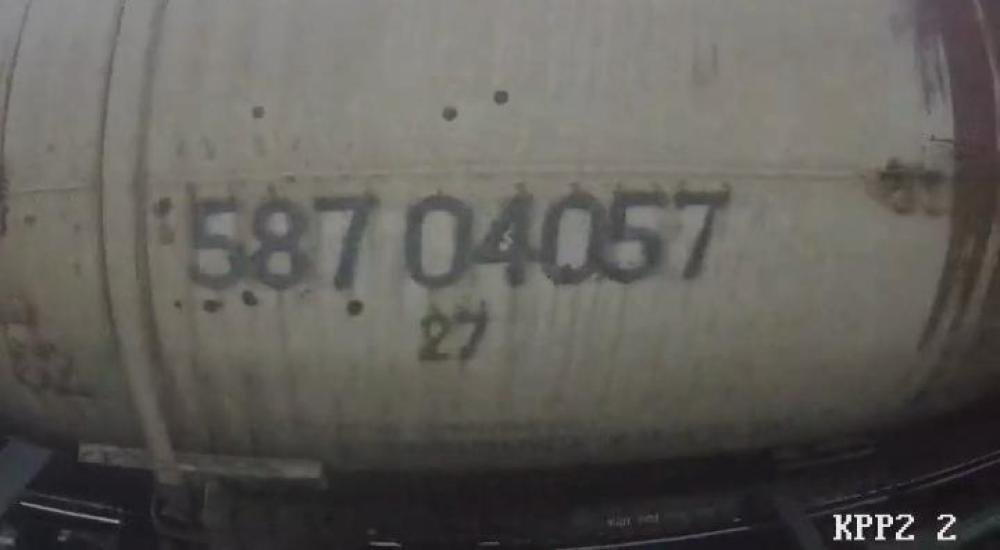Wagon-number: (185, 180, 735, 296)
